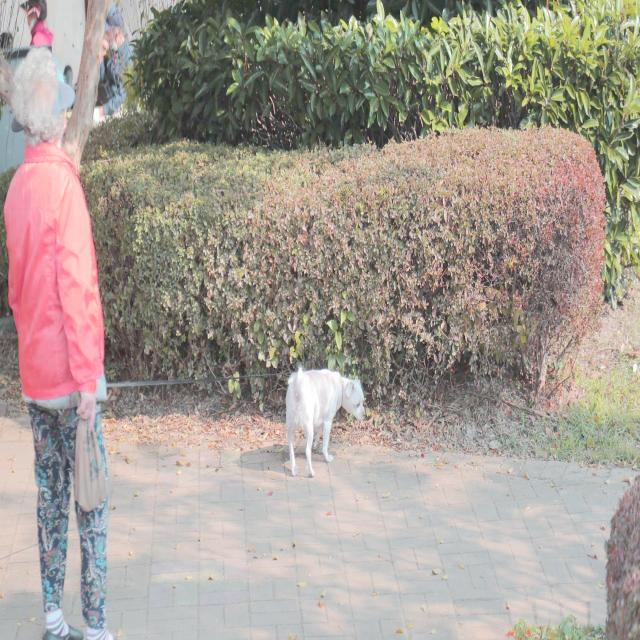Leashed_Dog: (74, 331, 366, 478)
